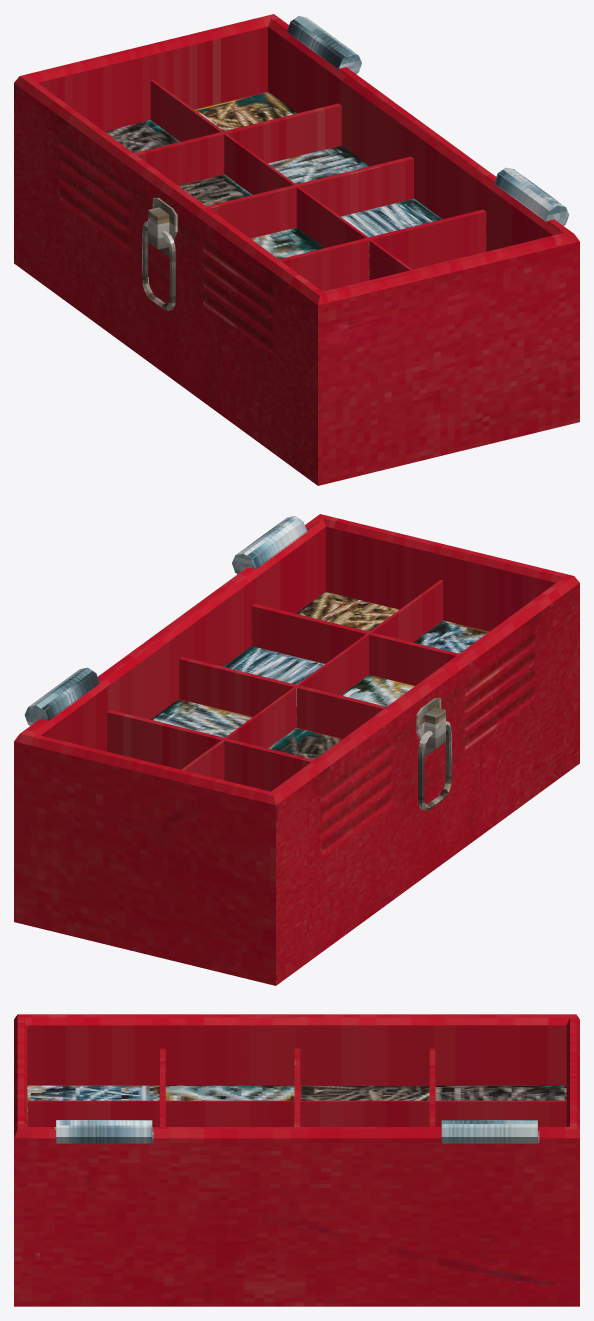
Rendered from ToolboxBodyFinal.fbx.
The picture shows the model from 3 angles, top to bottom: view 1: azimuth 30°, elevation 25°; view 2: azimuth 150°, elevation 25°; view 3: azimuth 270°, elevation 25°; orthographic projection. The views are drawn at different scales.
Visible parts, largest first — view 1: ToolBody; view 2: ToolBody; view 3: ToolBody.
Boxes of the visible parts, x1=… form: ToolBody: x1=14, y1=14, x2=579, y2=485; ToolBody: x1=14, y1=514, x2=579, y2=985; ToolBody: x1=14, y1=1014, x2=579, y2=1306.
Bounding box in the file's own units: 320 × 213 × 587.
1 material, 1 textured.
